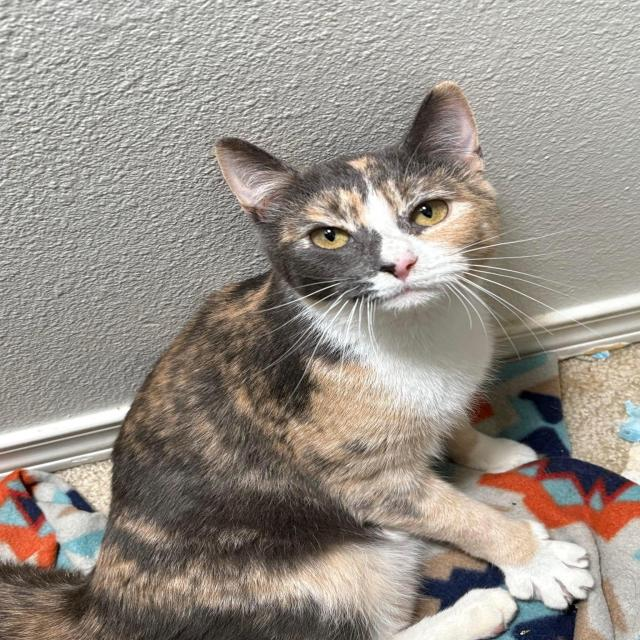calico_cat: (201, 77, 559, 340)
